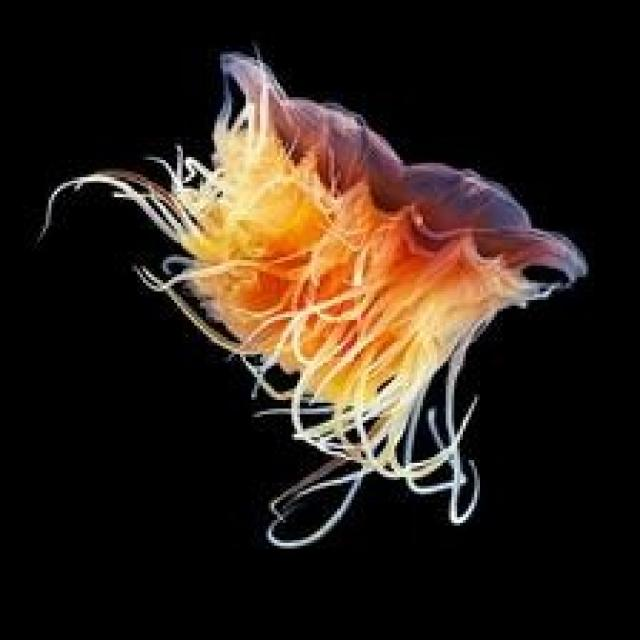Jellyfish: (34, 43, 589, 548)
